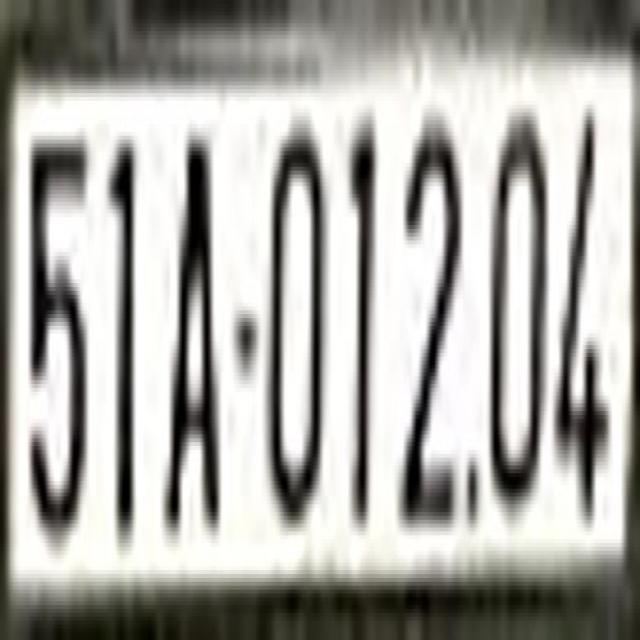0: (486, 93, 546, 493), (265, 116, 320, 532)
1: (104, 112, 139, 562), (347, 128, 381, 535)
2: (395, 109, 465, 528)
4: (554, 89, 611, 535)
5: (27, 109, 87, 539)
A: (159, 112, 222, 547)
